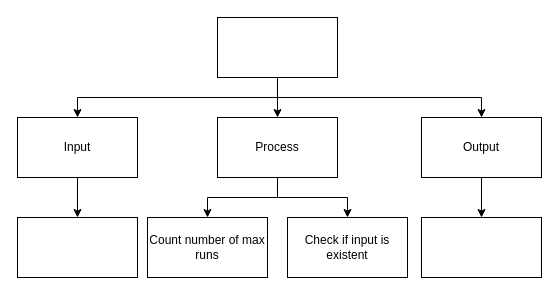
The diagram is 559 pixels wide and 295 high, and some of its shapes have lost their labels. Here are the shapes that lost their labels. From the top down, the centre of each, then its label:
the point at 277,47: Max Run
the point at 77,247: User inputs string
the point at 481,247: Return max run to user
